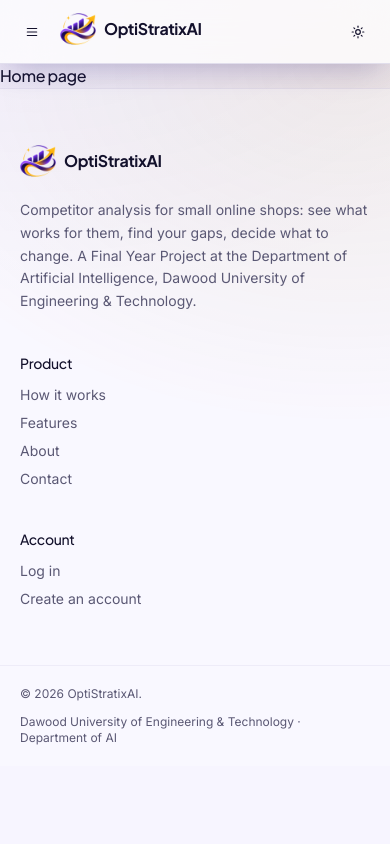
Test: marketing mobile drawer › leaves the DOM after the close button
The image size is (390, 844).
Click the button named "Open navigation": (32, 32) [16, 16, 48, 48]
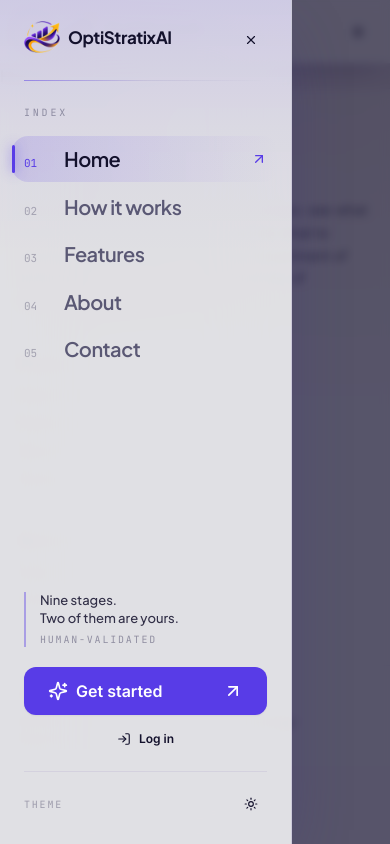
Expected: the dialog named "navigation" is shown
Click the button named "Close menu": (251, 40) [235, 24, 267, 56]
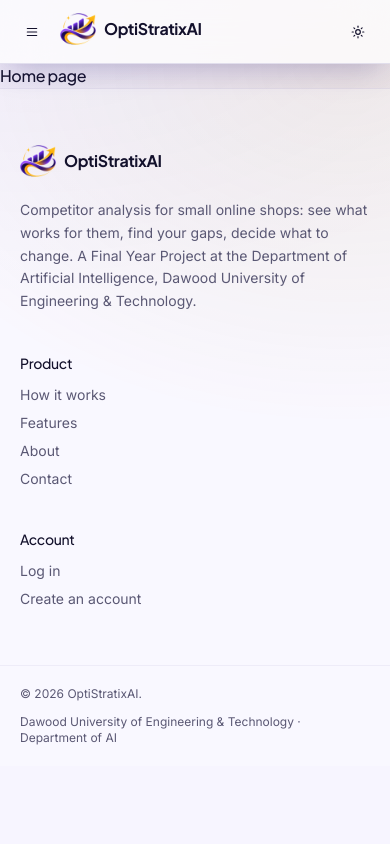
Expected: the dialog "navigation" is gone
